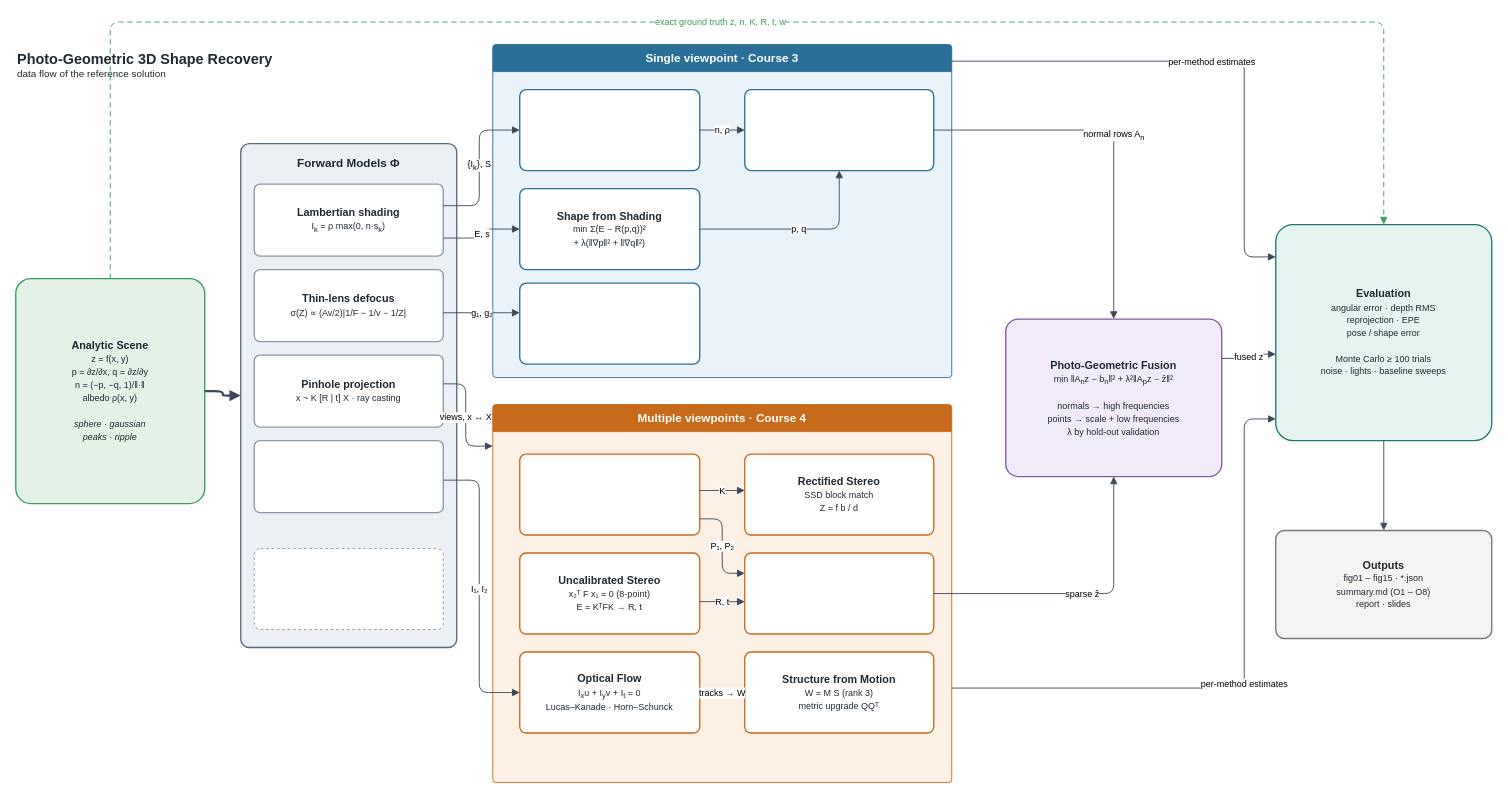
The diagram is 1508 pixels wide and 798 high, and some of its shapes have lost their labels. The centre of each missing label's shape, as x and y in pixels:
Camera Calibration DLT Ap = 0 → RQ → LM K, R, t: point 609,494
Depth from Defocus σ₁² − σ₂² = 2(g₁ − g₂)/∇²g → Z by thin-lens lookup: point 609,323
Exact motion warp I 2 (x + w(x)) = I 1 (x): point 348,476
Normal Integration Poisson: ∇²z = p x + q y Frankot–Chellappa (FFT): point 839,129
Photometric Stereo g = (SᵀS)⁻¹SᵀI ρ = ‖g‖, n = g/ρ: point 609,129
Sensor model + N(0, σ²) · 8-bit quantisation applied to every image: point 348,589
Triangulation linear DLT → sparse metric 3D points: point 839,593
